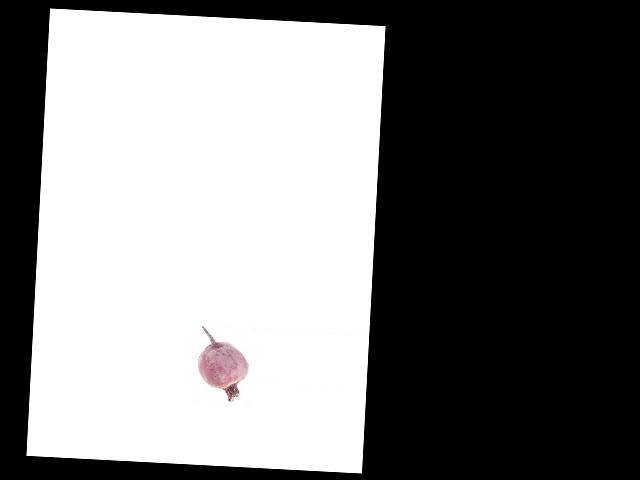beet: (195, 326, 250, 403)
